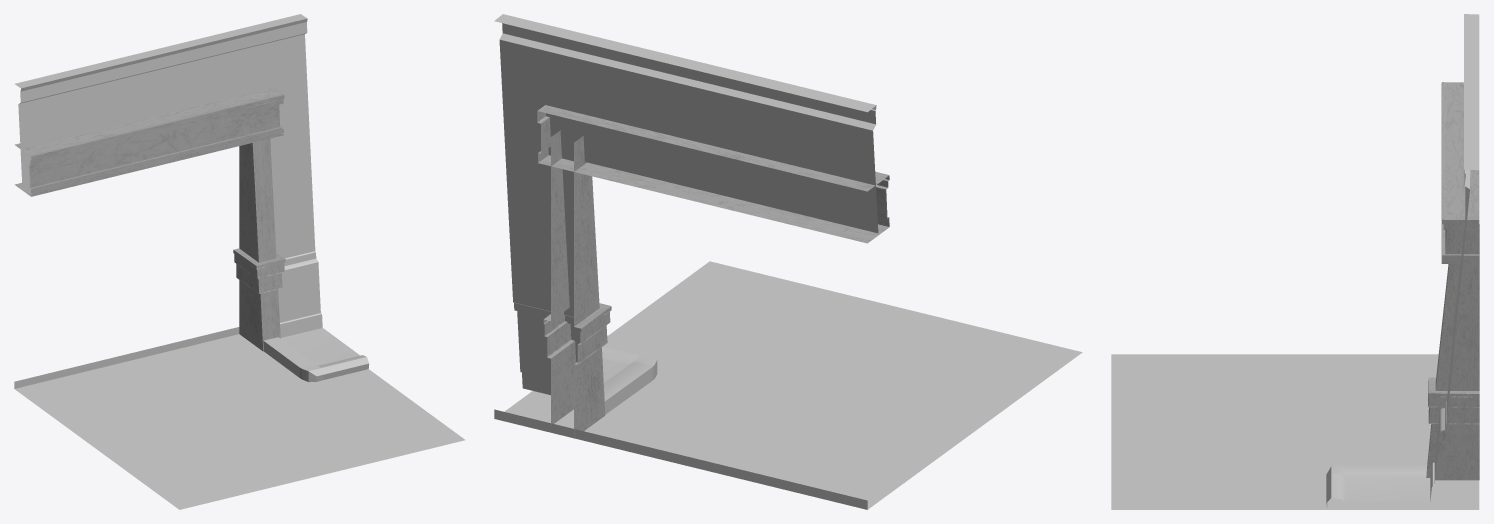
The model's file is exteriorBrick_DoorRight.fbx.
The picture shows the model from 3 angles, left to right: view 1: azimuth 30°, elevation 25°; view 2: azimuth 150°, elevation 25°; view 3: azimuth 270°, elevation 25°; orthographic projection. The views are drawn at different scales.
Parts seen in each view (by area): view 1: exteriorBrick_DoorRight; view 2: exteriorBrick_DoorRight; view 3: exteriorBrick_DoorRight.
Boxes of the visible parts, x1=… form: exteriorBrick_DoorRight: x1=14, y1=14, x2=465, y2=509; exteriorBrick_DoorRight: x1=494, y1=14, x2=1082, y2=509; exteriorBrick_DoorRight: x1=1111, y1=14, x2=1479, y2=509.
Size of the model in its own units: 3.01 by 3.07 by 3.
